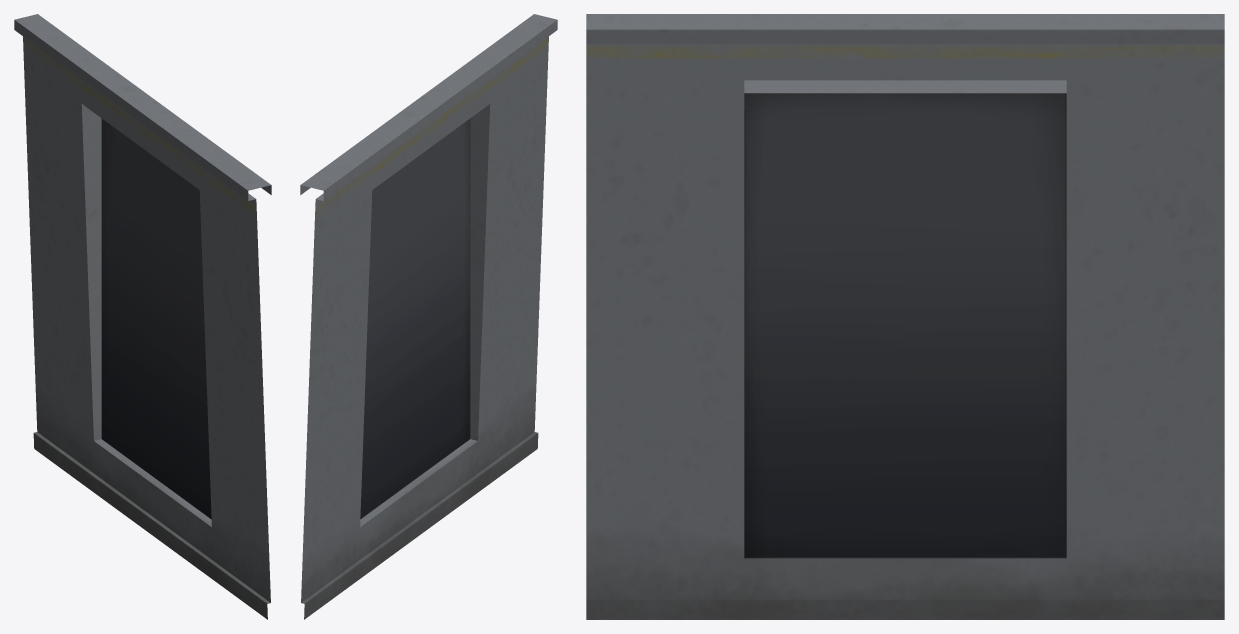
File: spaceStation_wall_b.fbx
The picture shows the model from 3 angles, left to right: view 1: azimuth 30°, elevation 25°; view 2: azimuth 150°, elevation 25°; view 3: azimuth 270°, elevation 25°; orthographic projection. The views are drawn at different scales.
Parts seen in each view (by area): view 1: wall, window; view 2: wall, window; view 3: wall, window.
Part boxes in pixels (x1=…): wall: x1=14, y1=14, x2=271, y2=619; window: x1=101, y1=118, x2=211, y2=519; wall: x1=300, y1=14, x2=557, y2=619; window: x1=360, y1=118, x2=470, y2=519; wall: x1=586, y1=14, x2=1224, y2=619; window: x1=744, y1=93, x2=1066, y2=558.
Bounding box in the file's own units: 0.2891 × 4.1 × 4.
